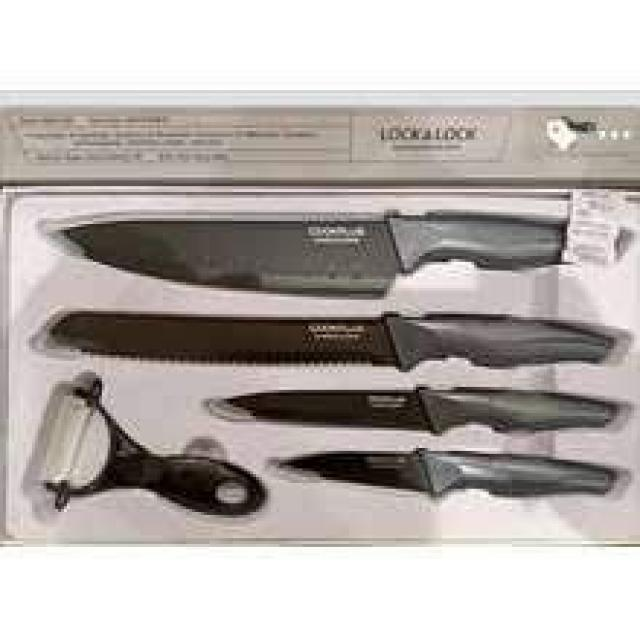knife: (44, 204, 627, 539)
